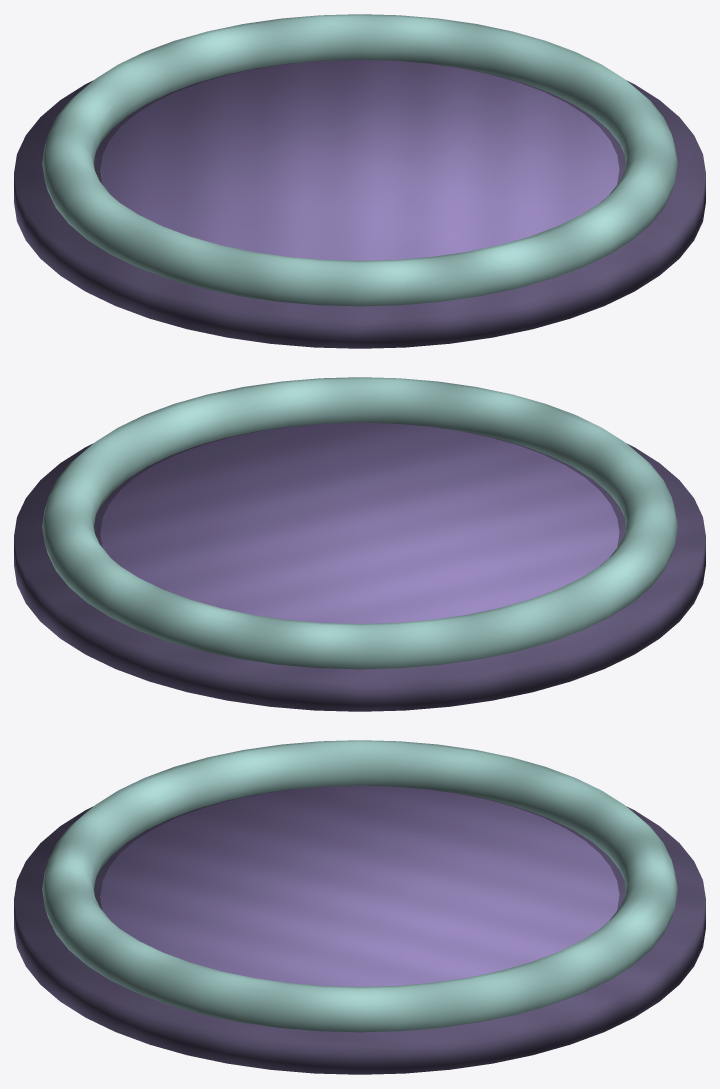
File: teleport_pad.glb
3 views of the same model, one above another, from view 1: azimuth 30°, elevation 25°; view 2: azimuth 150°, elevation 25°; view 3: azimuth 270°, elevation 25° (orthographic).
Parts seen in each view (by area): view 1: swirl_disc, pad_ring, pad_base; view 2: swirl_disc, pad_ring, pad_base; view 3: swirl_disc, pad_ring, pad_base.
Part boxes in pixels (<box>): swirl_disc: <box>100,59,619,260</box>; pad_ring: <box>42,14,677,306</box>; pad_base: <box>14,59,705,348</box>; swirl_disc: <box>100,422,619,623</box>; pad_ring: <box>42,377,677,669</box>; pad_base: <box>14,422,705,711</box>; swirl_disc: <box>100,785,619,986</box>; pad_ring: <box>42,740,677,1032</box>; pad_base: <box>14,785,705,1074</box>.
Bounding box in the file's own units: 3.2 × 0.32 × 3.2.
Materials: 3 (3 with a texture image).
